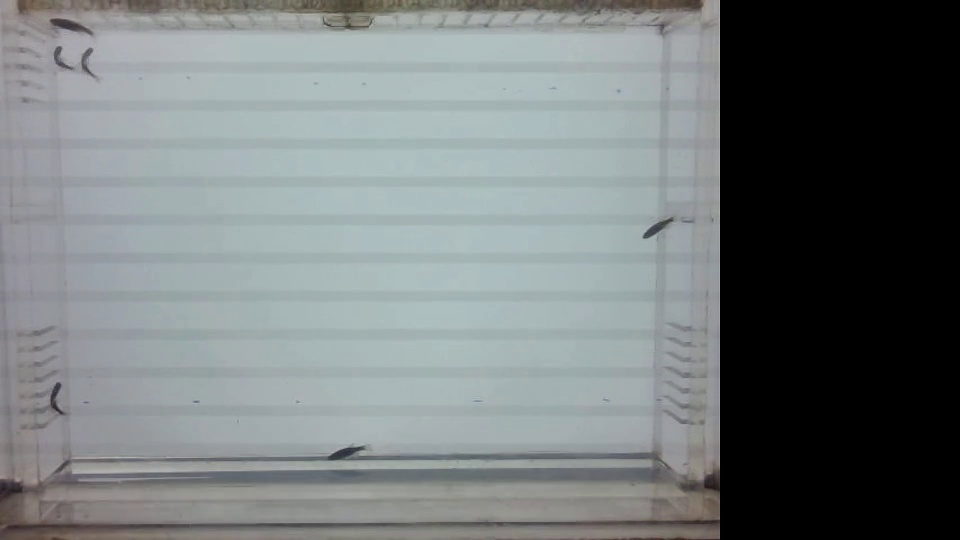fish: (629, 209, 676, 246), (320, 436, 376, 466), (41, 377, 72, 424), (48, 16, 104, 40), (74, 42, 102, 86), (48, 40, 76, 77)
